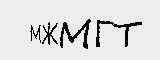Г: (94, 19, 110, 46)
Ж: (41, 19, 59, 44)
М: (62, 17, 93, 46), (28, 24, 42, 41)
Т: (112, 20, 143, 46)
